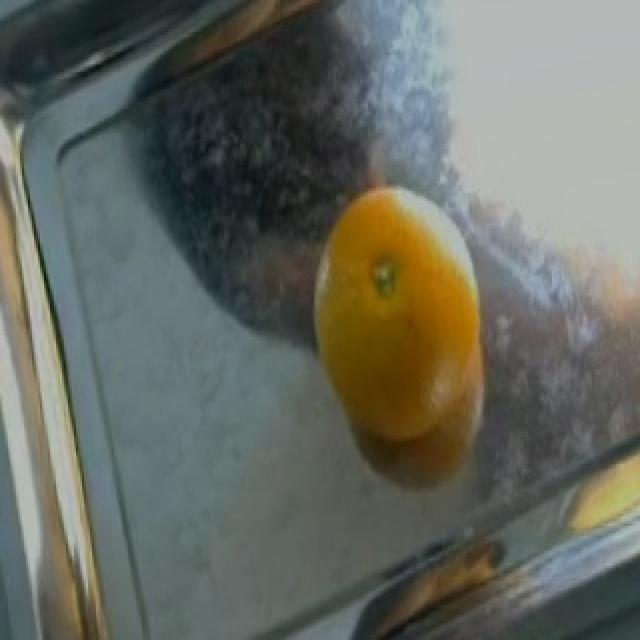Fruit: (292, 164, 512, 528)
